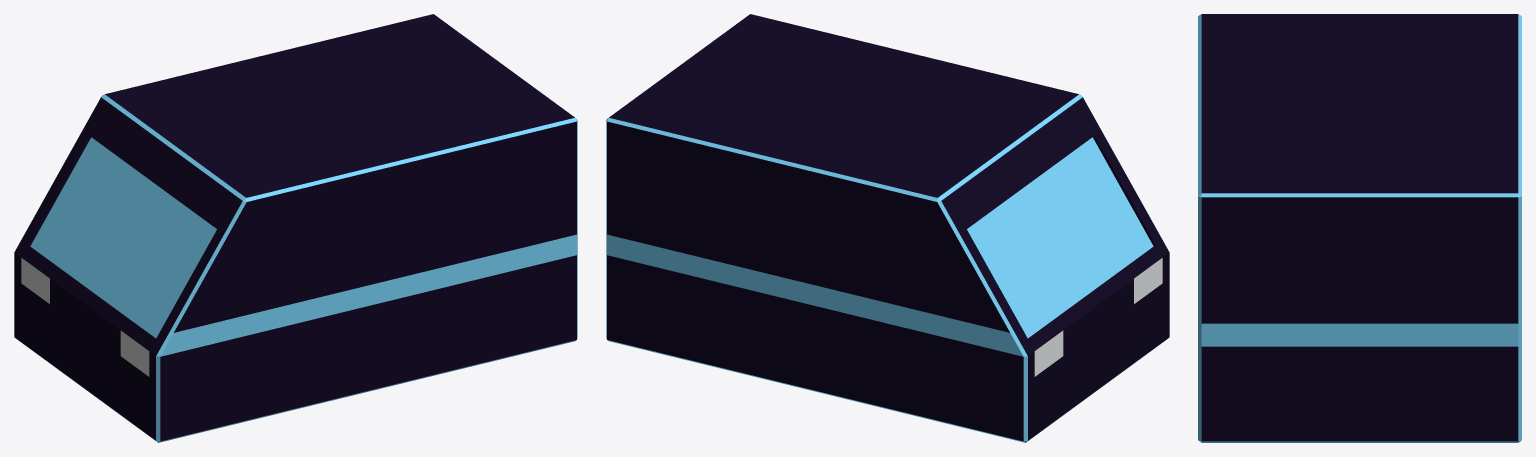
Rendered from Train.fbx.
3 views of the same model, side by side, from view 1: azimuth 30°, elevation 25°; view 2: azimuth 150°, elevation 25°; view 3: azimuth 270°, elevation 25° (orthographic). The views are drawn at different scales.
Visible parts, largest first — view 1: Cube; view 2: Cube; view 3: Cube.
Part boxes in pixels (x1=…): Cube: x1=14, y1=14, x2=577, y2=442; Cube: x1=606, y1=14, x2=1169, y2=442; Cube: x1=1198, y1=14, x2=1521, y2=442.
Bounding box in the file's own units: 458 × 232 × 273.
